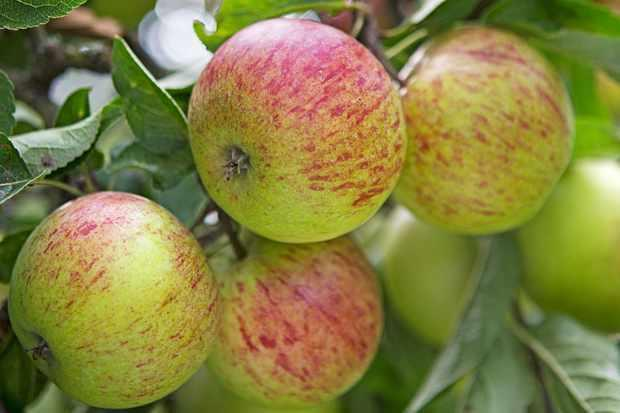apple: (186, 16, 404, 246), (6, 190, 222, 405), (392, 26, 572, 230), (513, 162, 615, 335)
